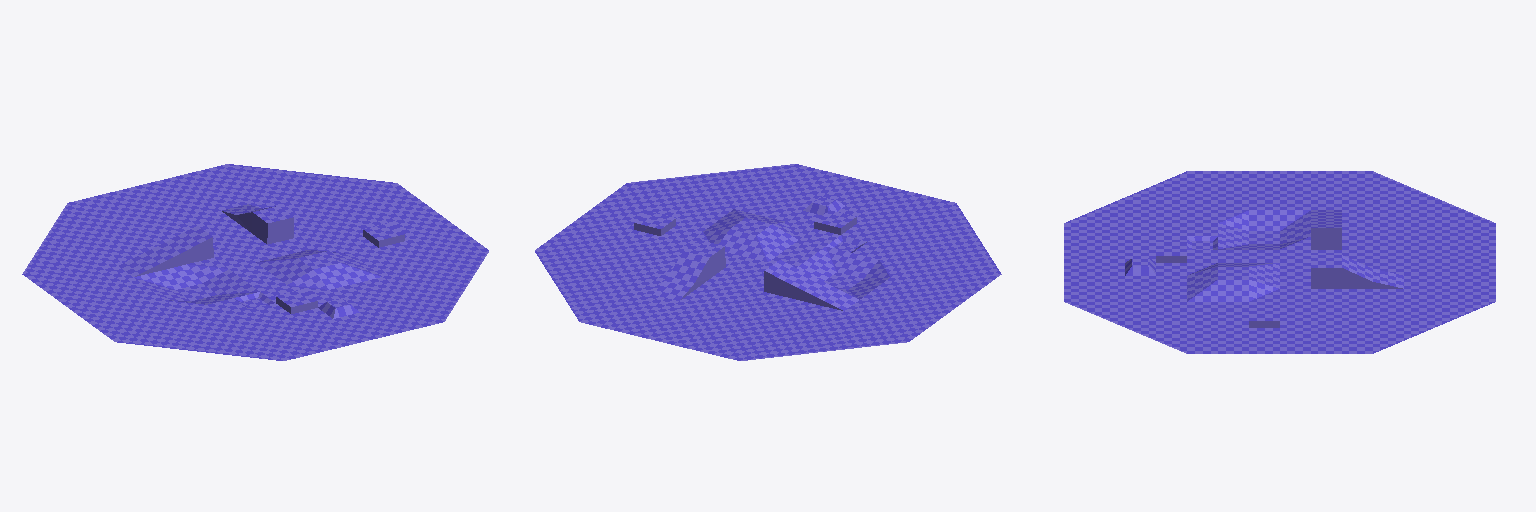
3 renders of one model, left to right at view 1: azimuth 30°, elevation 25°; view 2: azimuth 150°, elevation 25°; view 3: azimuth 270°, elevation 25°, orthographic.
Parts seen in each view (by area): view 1: Grid_Grid.004; view 2: Grid_Grid.004; view 3: Grid_Grid.004.
Part boxes in pixels (left/top/right/bottom): Grid_Grid.004: left=22, top=164, right=488, bottom=360; Grid_Grid.004: left=535, top=164, right=1001, bottom=360; Grid_Grid.004: left=1064, top=171, right=1495, bottom=353.
Bounding box in the file's own units: 56 × 4.12 × 56.
1 materials, 1 textured.